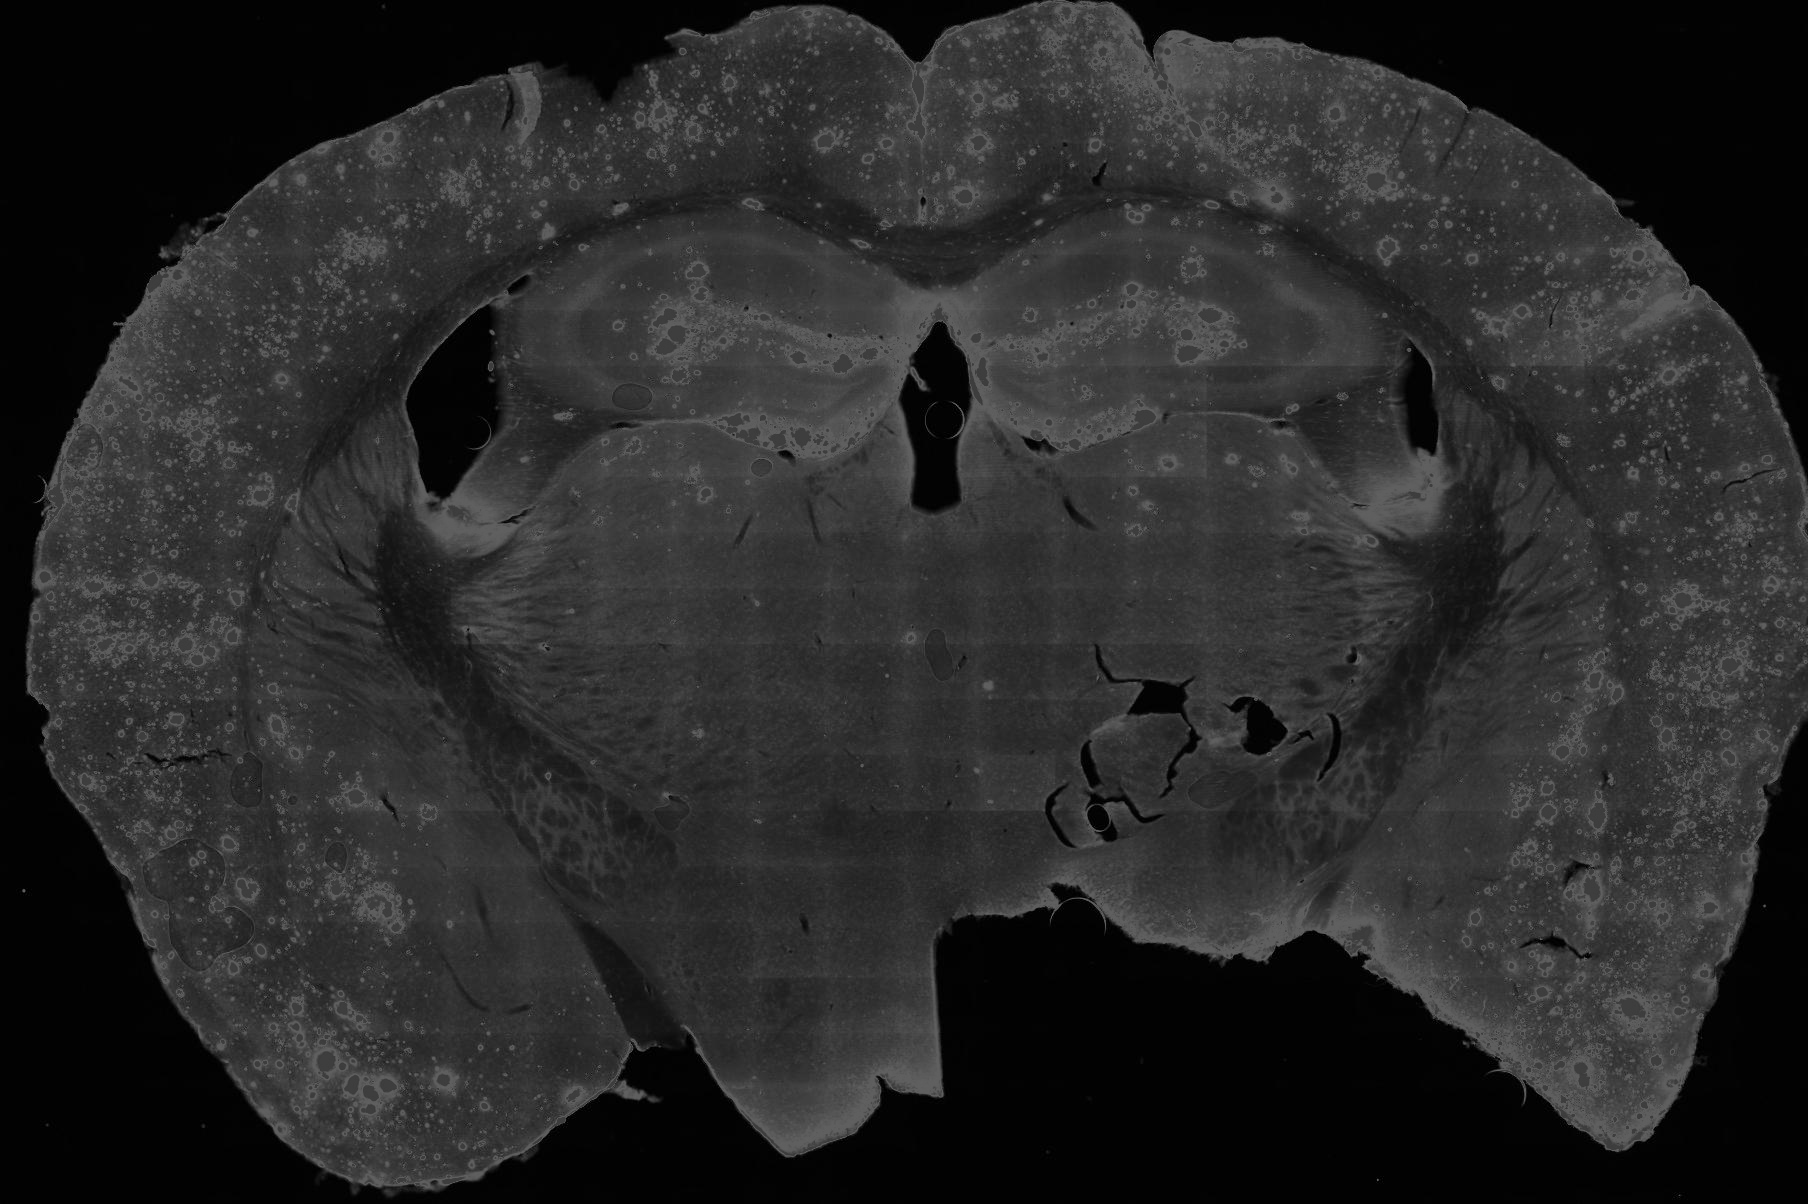Cerebral nuclei: (244, 399, 467, 855), (1444, 378, 1611, 804)
Hippocampal formation: (942, 204, 1384, 450), (517, 207, 939, 457)
Hypothalamus: (551, 834, 948, 1161)
Retrosplenial area: (916, 1, 1054, 232), (793, 5, 927, 232)
Somatosensory area: (79, 81, 543, 485), (1370, 103, 1762, 451)
Thalamus: (934, 400, 1439, 881), (451, 399, 944, 883)
